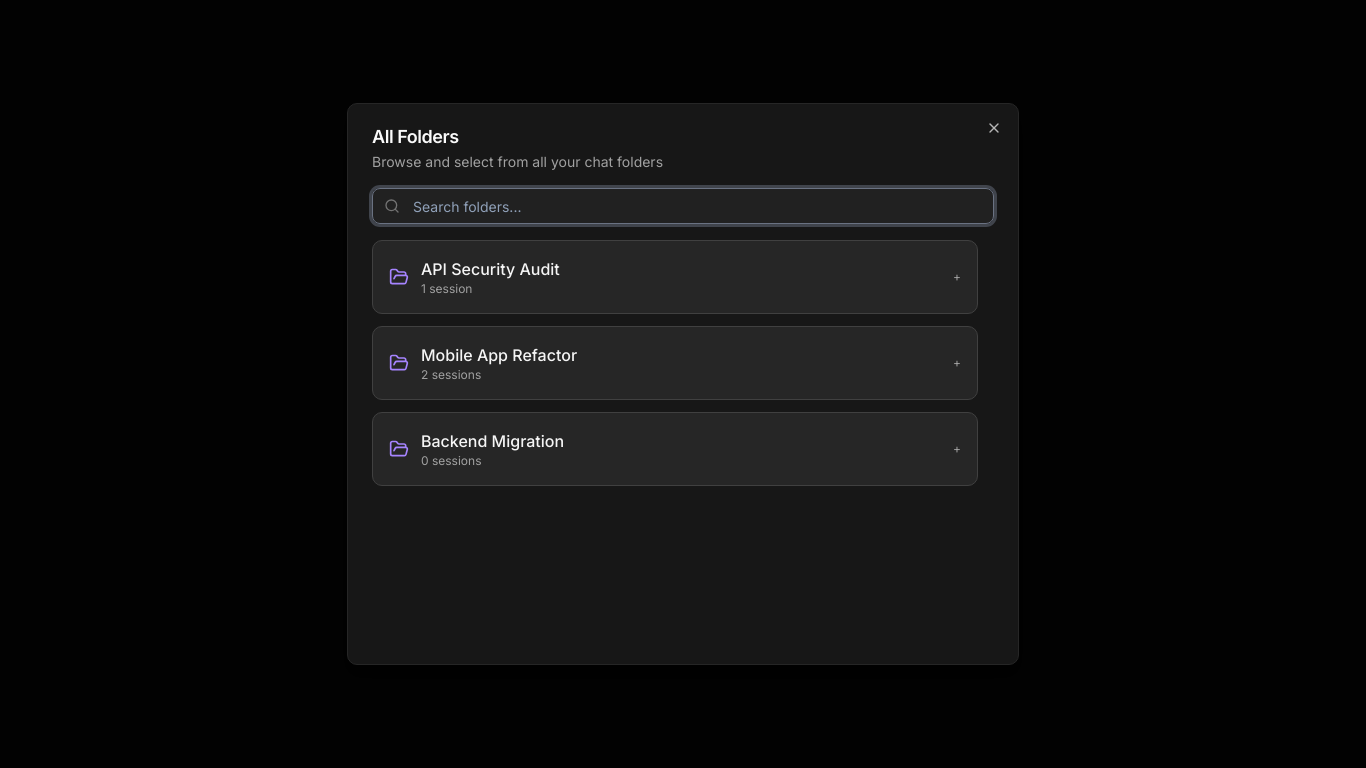
Test: ShowMoreFoldersDialog Component › Search Functionality › should show 'No folders found' when search has no matches
The width and height of the screenshot is (1366, 768).
In the field with placeholder "Search folders...": [683, 206] box [372,188,994,224], type "NonExistent"
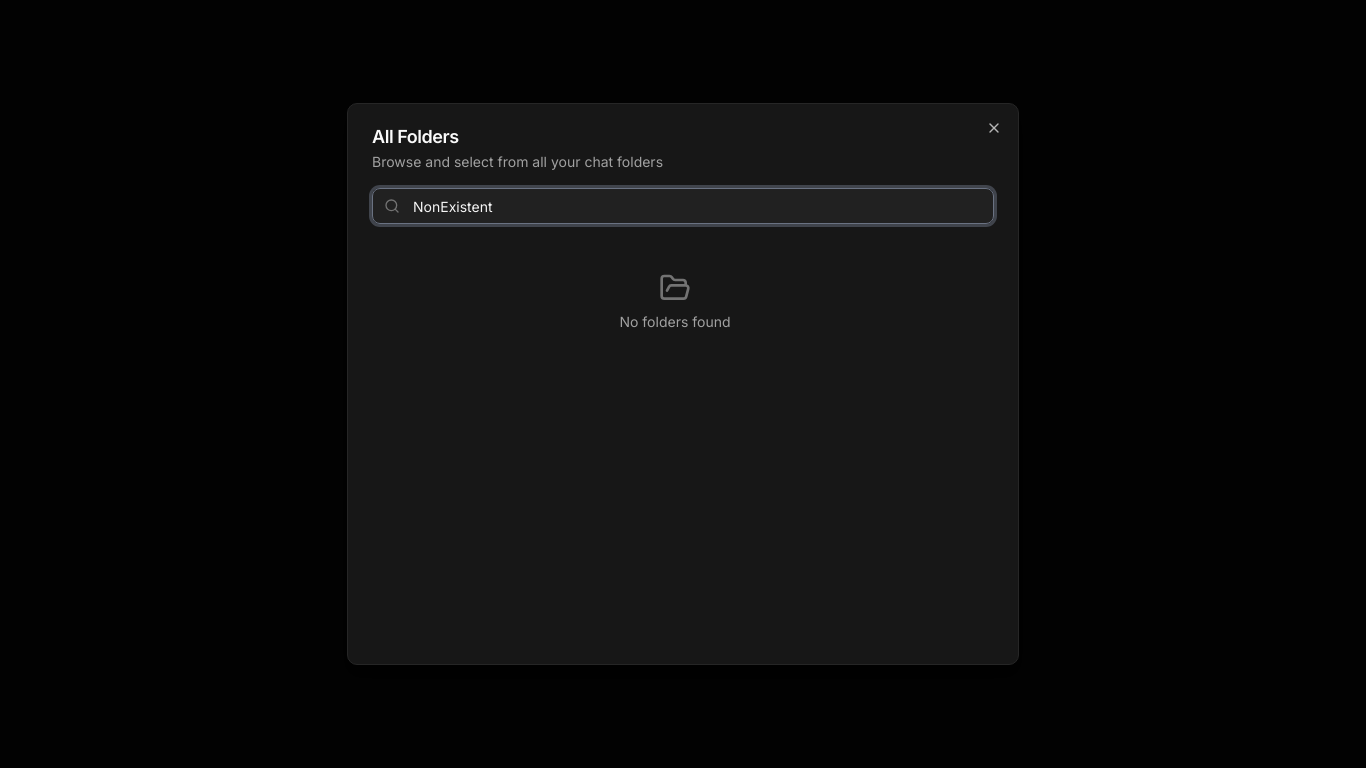
Expected: the text "No folders found" is shown, [620,312,731,332]
